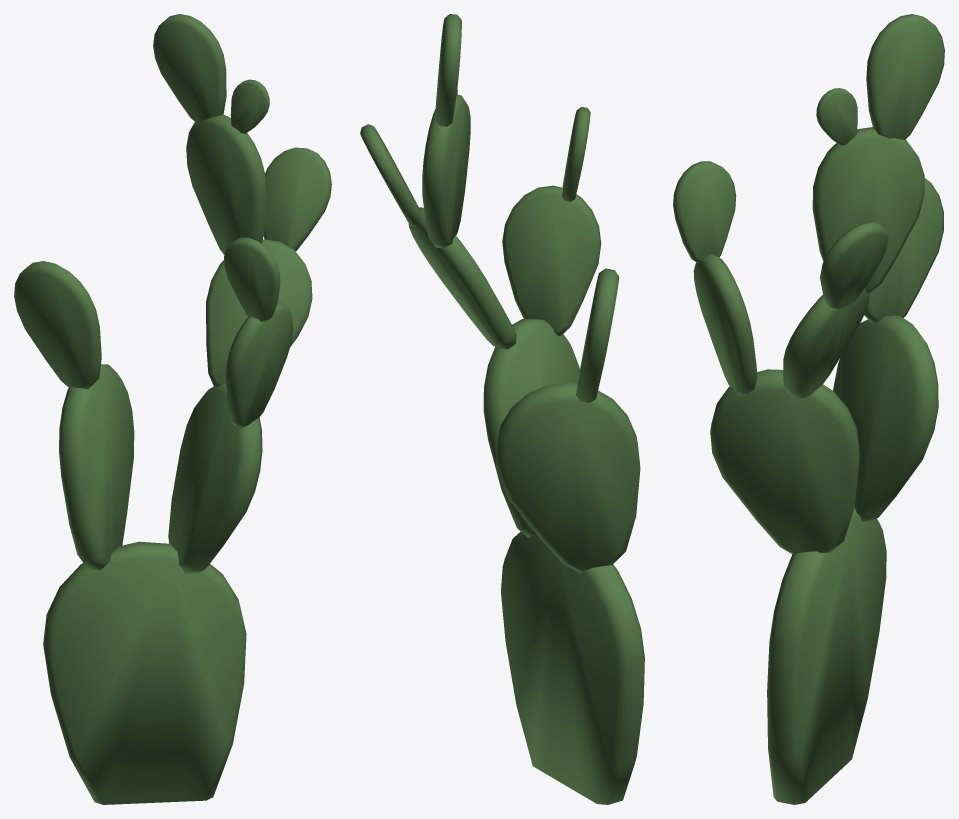
Rendered from cactus1.fbx.
3 renders of one model, left to right at view 1: azimuth 30°, elevation 25°; view 2: azimuth 150°, elevation 25°; view 3: azimuth 270°, elevation 25°, orthographic. The views are drawn at different scales.
Visible parts, largest first — view 1: cactus; view 2: cactus; view 3: cactus.
Part boxes in pixels (left/top/right/bottom): cactus: left=14, top=14, right=331, bottom=804; cactus: left=360, top=14, right=644, bottom=804; cactus: left=673, top=14, right=944, bottom=804.
Bounding box in the file's own units: 23.43 × 59.96 × 18.43.
